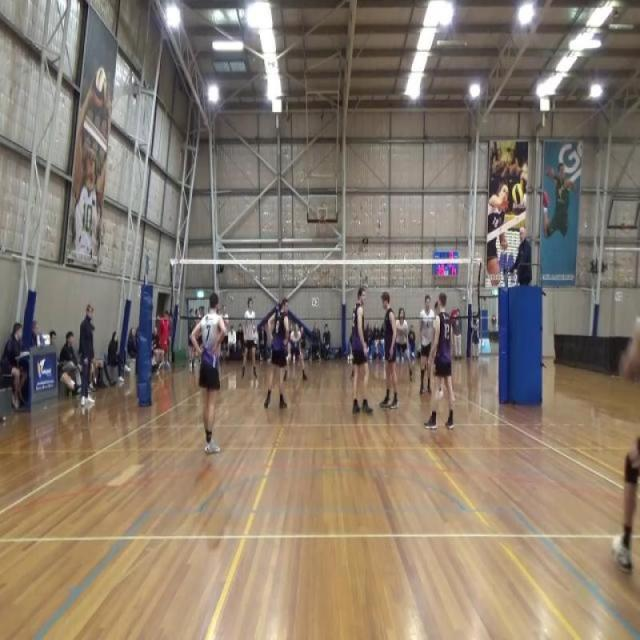volleyball: (92, 59, 109, 115), (510, 184, 525, 208)
